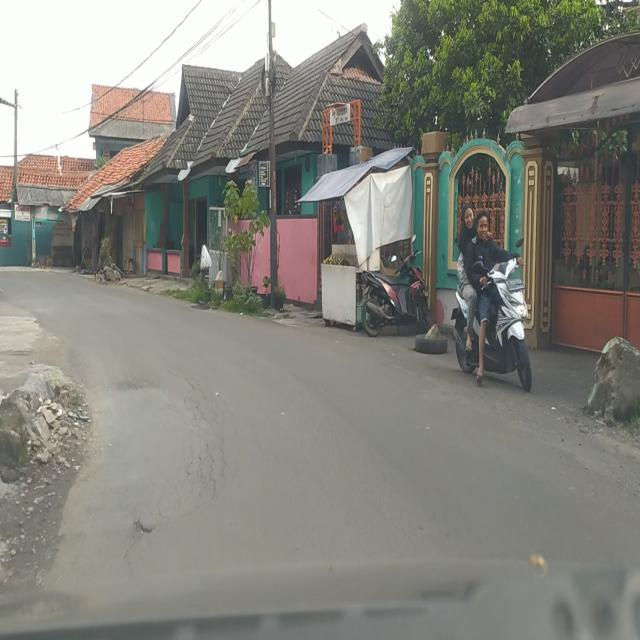Drain Hole: (138, 370, 227, 534)
